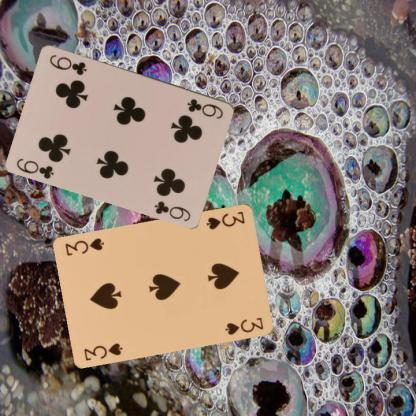3s: (204, 208, 246, 231), (82, 340, 124, 362)
6c: (14, 156, 56, 180), (185, 96, 225, 120)
